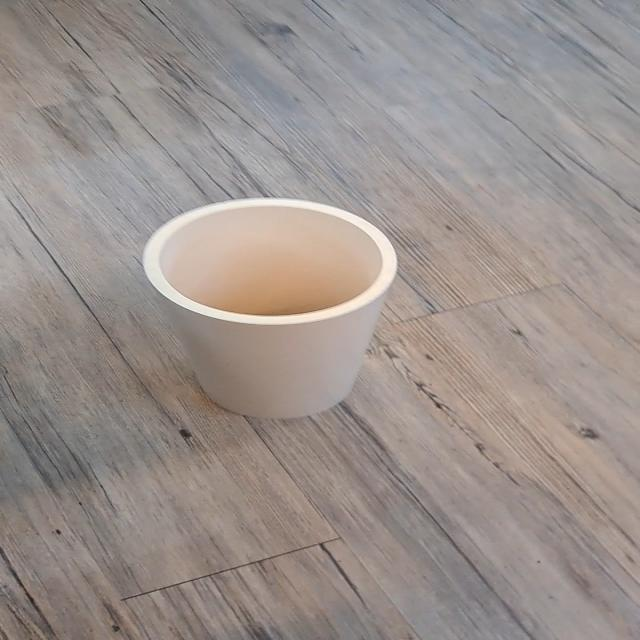CORAL: (102, 186, 410, 447)
